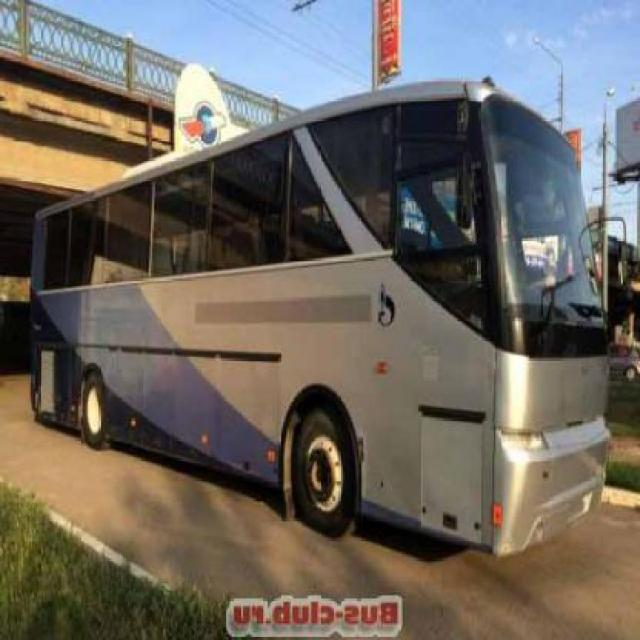bus: (35, 76, 602, 558)
